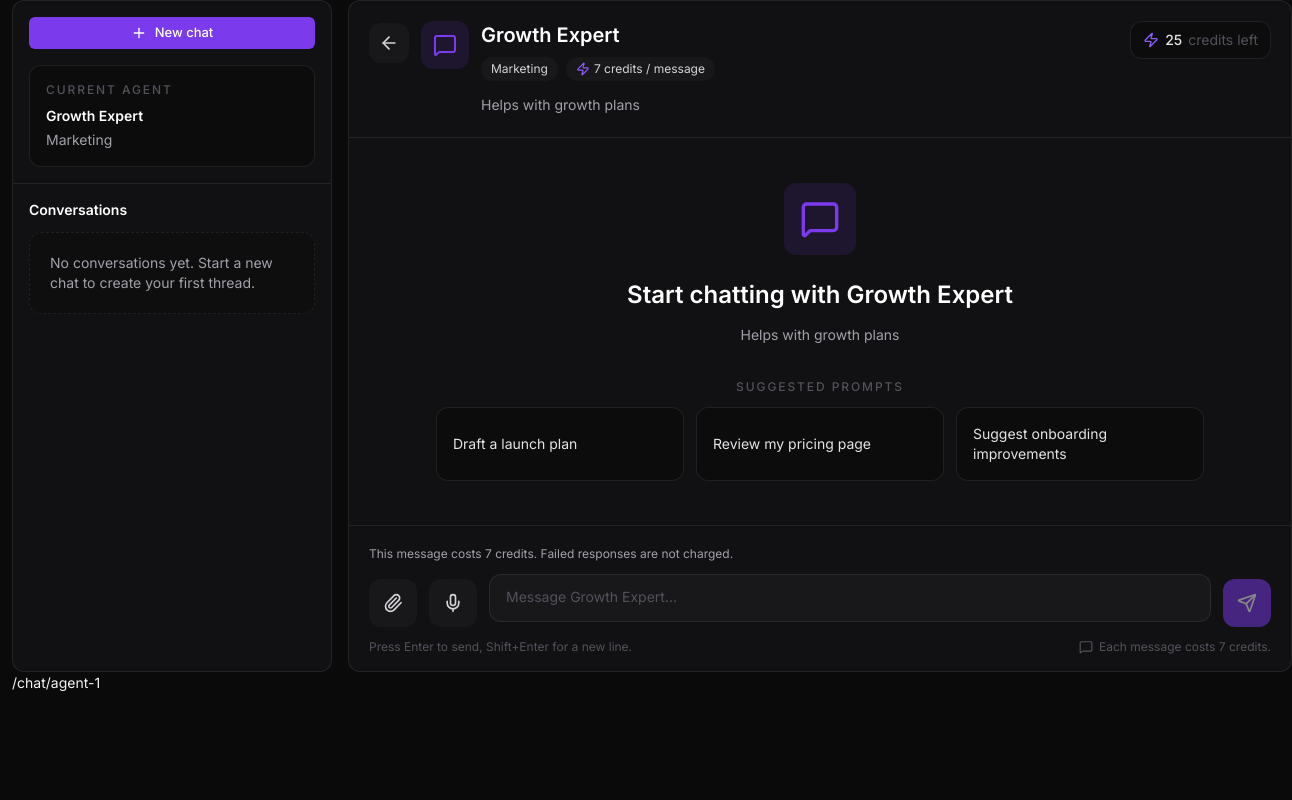
it: ChatPage › sets the conversationId in the URL after the first successful send
Type "Help me plan a launch" into the text box at (850,598), box 489,574 -> 1211,622
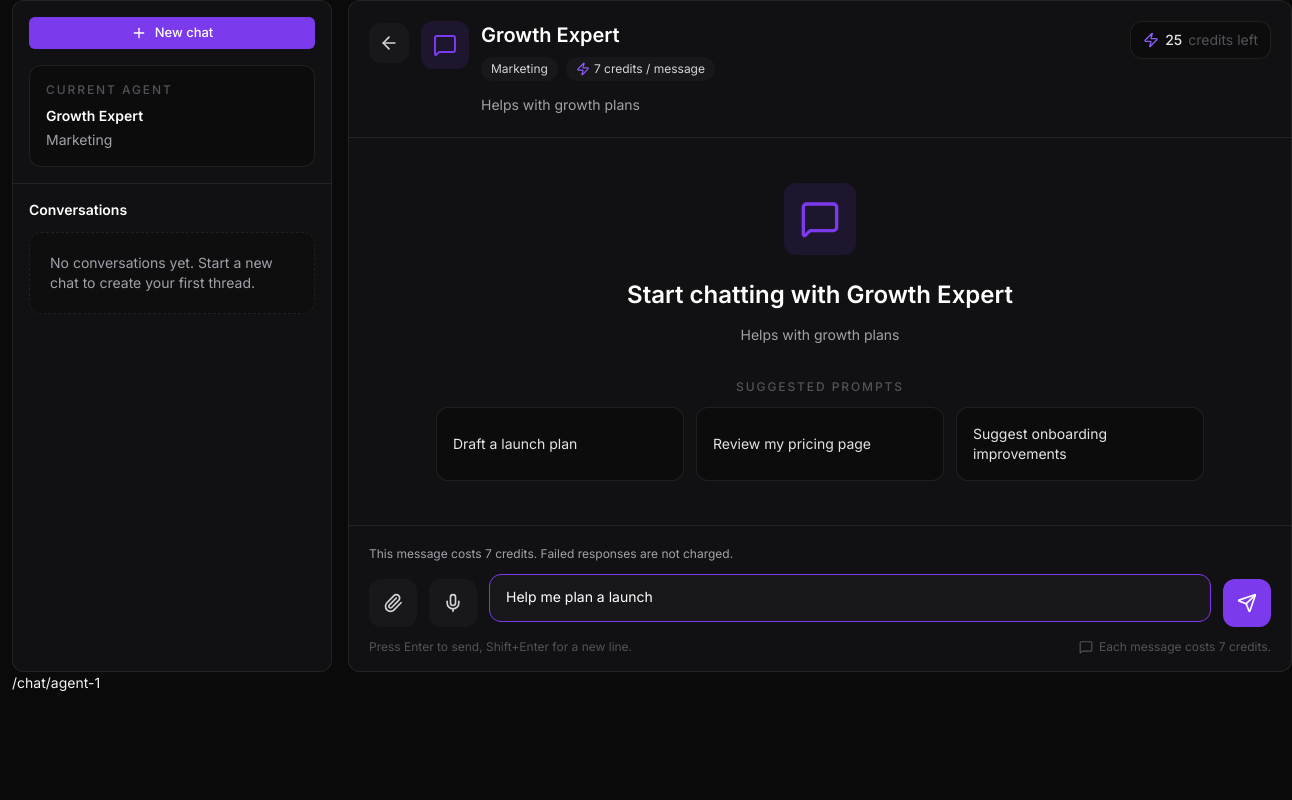
Press Enter
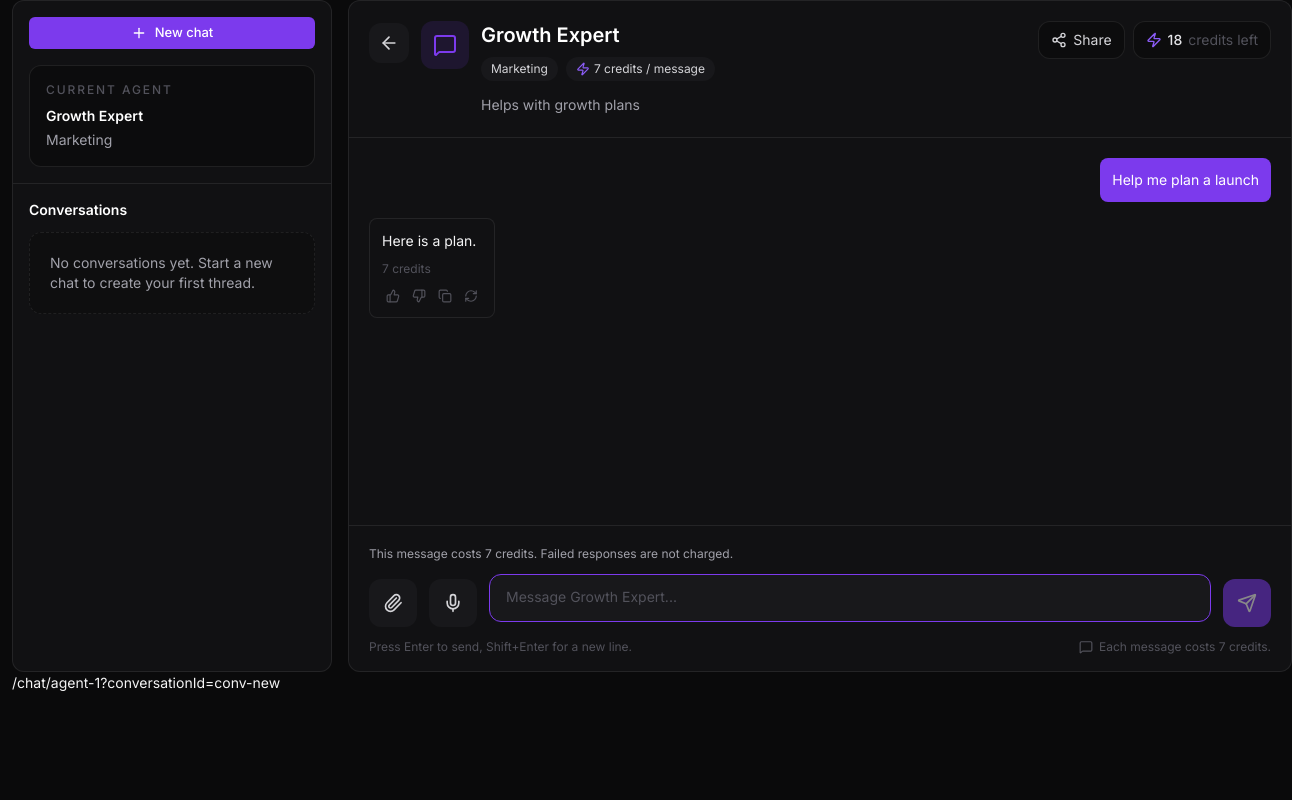
Check: the text with test id "location-display" reads "/chat/agent-1?conversationId=conv-new", box 12,674 -> 280,691
Check: the text "Here is a plan." is shown, box 382,229 -> 482,253
